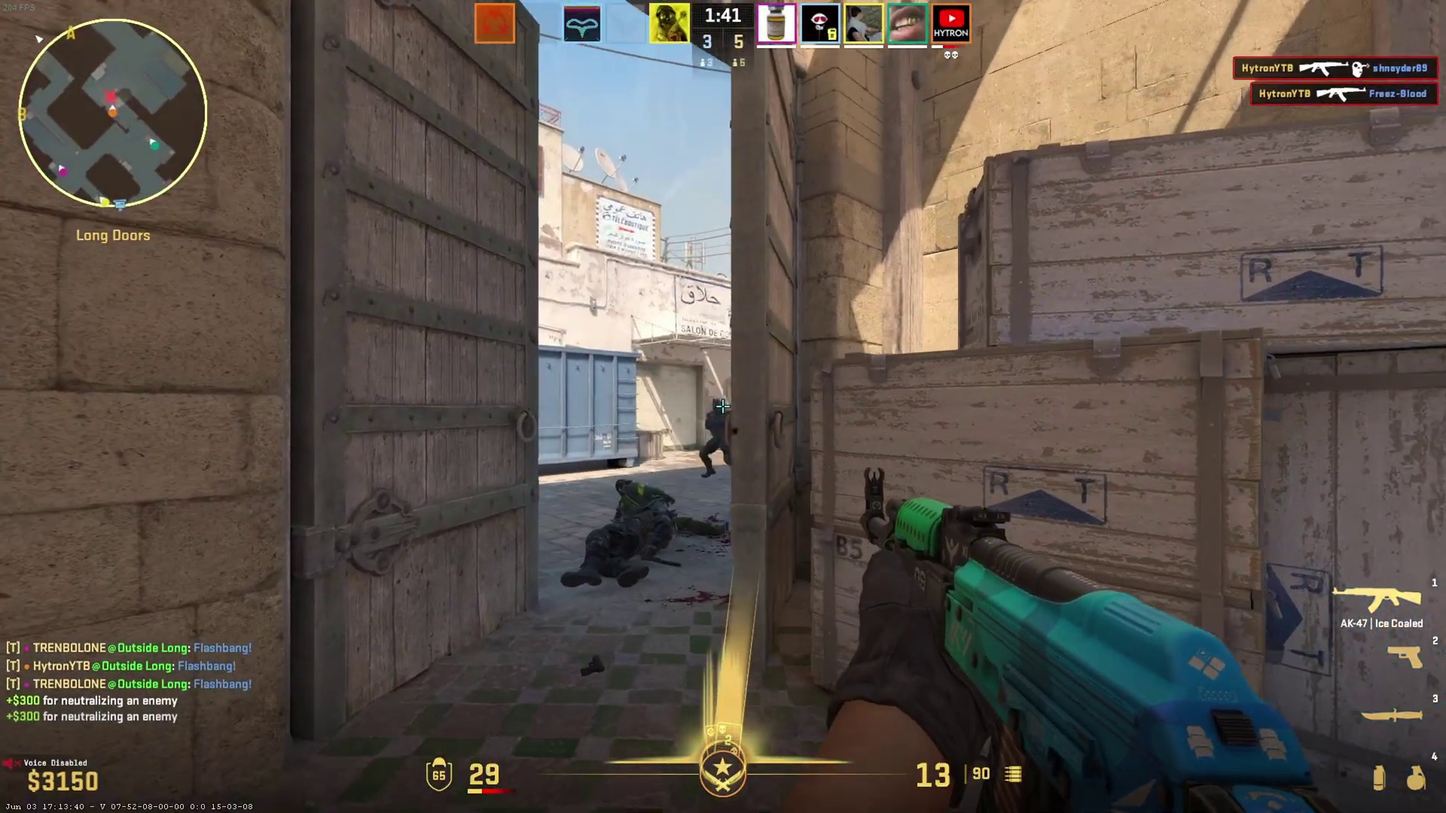CT: (700, 398, 732, 478)
